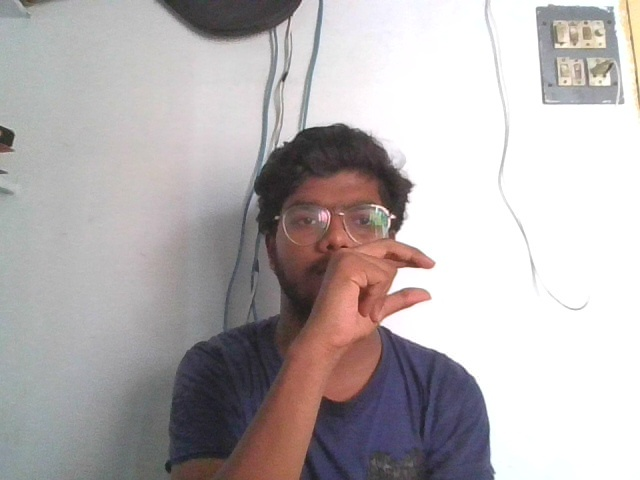No: (306, 232, 453, 341)
